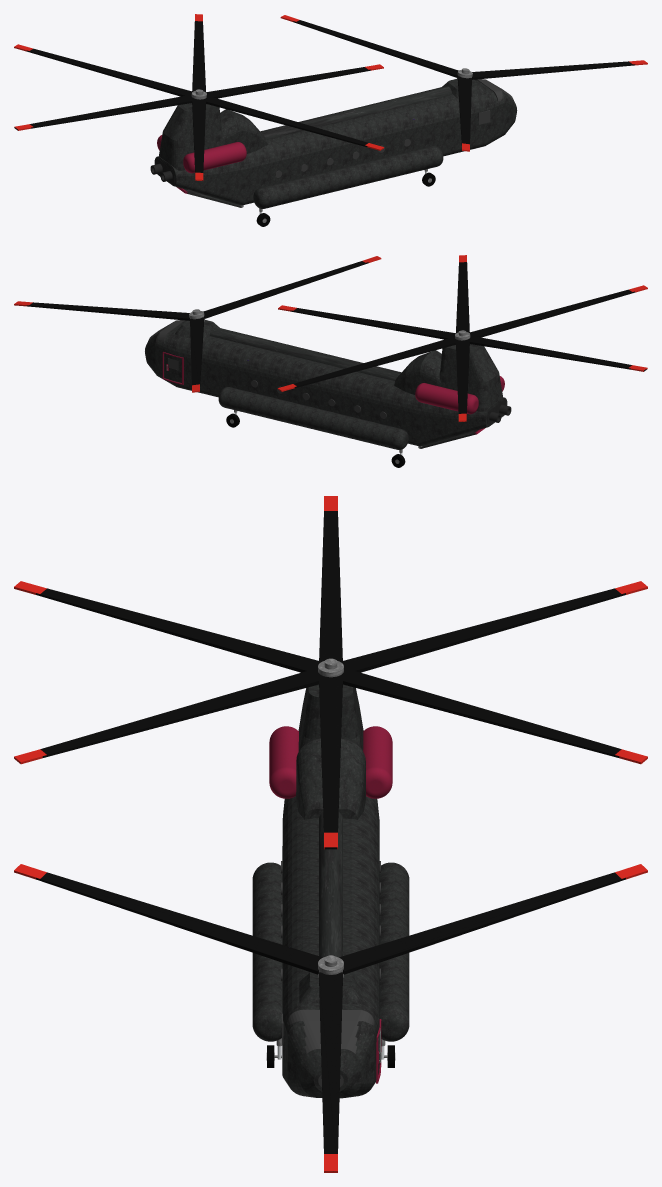
File: Military_helicopter__0844.glb
The picture shows the model from 3 angles, top to bottom: view 1: azimuth 30°, elevation 25°; view 2: azimuth 150°, elevation 25°; view 3: azimuth 270°, elevation 25°; orthographic projection. The views are drawn at different scales.
Parts seen in each view (by area): view 1: fuselage::hull, fuselage::right_sponson, fuselage::rear_pylon, fuselage::spine_fairing, fuselage::dorsal_hump, rear_rotor::blade_2, rear_rotor::blade_4, rear_rotor::blade_1, rear_rotor::blade_5, front_rotor::blade_1, front_rotor::blade_0, fuselage::right_engine_nacelle (+5 smaller); view 2: fuselage::hull, fuselage::left_sponson, fuselage::rear_pylon, fuselage::spine_fairing, fuselage::dorsal_hump, rear_rotor::blade_0, rear_rotor::blade_2, rear_rotor::blade_3, rear_rotor::blade_5, front_rotor::blade_2, front_rotor::blade_0, fuselage::left_engine_nacelle (+6 smaller); view 3: fuselage::hull, fuselage::right_sponson, fuselage::left_sponson, front_rotor::blade_1, front_rotor::blade_2, fuselage::dorsal_hump, rear_rotor::blade_0, rear_rotor::blade_4, rear_rotor::blade_1, rear_rotor::blade_3, front_rotor::blade_0, rear_rotor::blade_5 (+7 smaller).
Boxes of the visible parts, box(x1,y1,x2,y2) form: fuselage::hull: box(154, 80, 517, 205); fuselage::right_sponson: box(253, 146, 443, 208); fuselage::rear_pylon: box(159, 103, 223, 170); fuselage::spine_fairing: box(261, 86, 452, 139); fuselage::dorsal_hump: box(220, 109, 267, 153); rear_rotor::blade_2: box(14, 94, 198, 130); rear_rotor::blade_4: box(200, 95, 368, 146); rear_rotor::blade_1: box(26, 48, 192, 97); rear_rotor::blade_5: box(206, 67, 370, 98); front_rotor::blade_1: box(293, 20, 458, 77); front_rotor::blade_0: box(472, 61, 635, 79); fuselage::right_engine_nacelle: box(183, 142, 246, 173); fuselage::hull: box(145, 321, 507, 446); fuselage::left_sponson: box(218, 387, 408, 449); fuselage::rear_pylon: box(439, 344, 502, 411); fuselage::spine_fairing: box(209, 327, 400, 380); fuselage::dorsal_hump: box(394, 350, 441, 394); rear_rotor::blade_0: box(293, 336, 461, 387); rear_rotor::blade_2: box(463, 335, 646, 371); rear_rotor::blade_3: box(469, 289, 635, 338); rear_rotor::blade_5: box(290, 308, 455, 339); front_rotor::blade_2: box(203, 261, 368, 318); front_rotor::blade_0: box(26, 302, 189, 320); fuselage::left_engine_nacelle: box(415, 383, 478, 414); fuselage::hull: box(282, 796, 379, 1098); fuselage::right_sponson: box(252, 862, 282, 1041); fuselage::left_sponson: box(379, 862, 409, 1041); front_rotor::blade_1: box(339, 872, 625, 974); front_rotor::blade_2: box(36, 872, 322, 974); fuselage::dorsal_hump: box(296, 737, 365, 819); rear_rotor::blade_0: box(332, 668, 621, 757); rear_rotor::blade_4: box(40, 668, 329, 757); rear_rotor::blade_1: box(340, 588, 625, 673); rear_rotor::blade_3: box(36, 588, 321, 673); front_rotor::blade_0: box(319, 972, 342, 1153); rear_rotor::blade_5: box(319, 675, 342, 849).
Size of the model in its own units: 30.75 by 6.57 by 15.67.
Materials: 12 (10 with a texture image).
